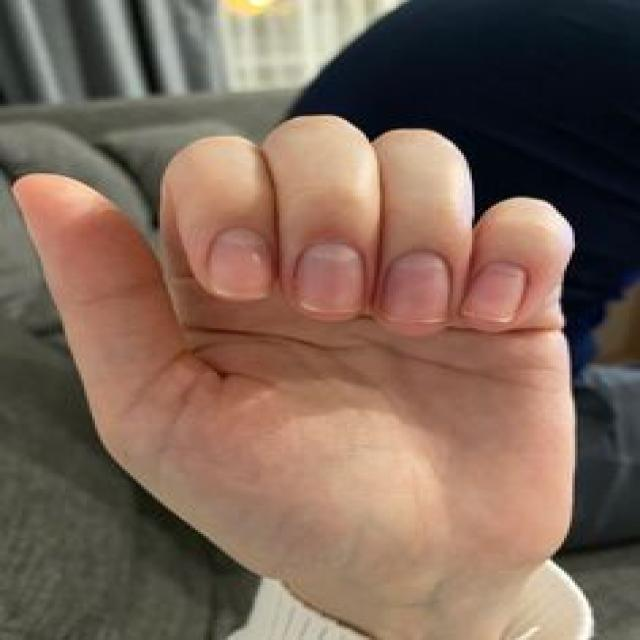Fingernail: (381, 251, 452, 322), (295, 244, 366, 312), (208, 228, 271, 295), (461, 262, 529, 322)
